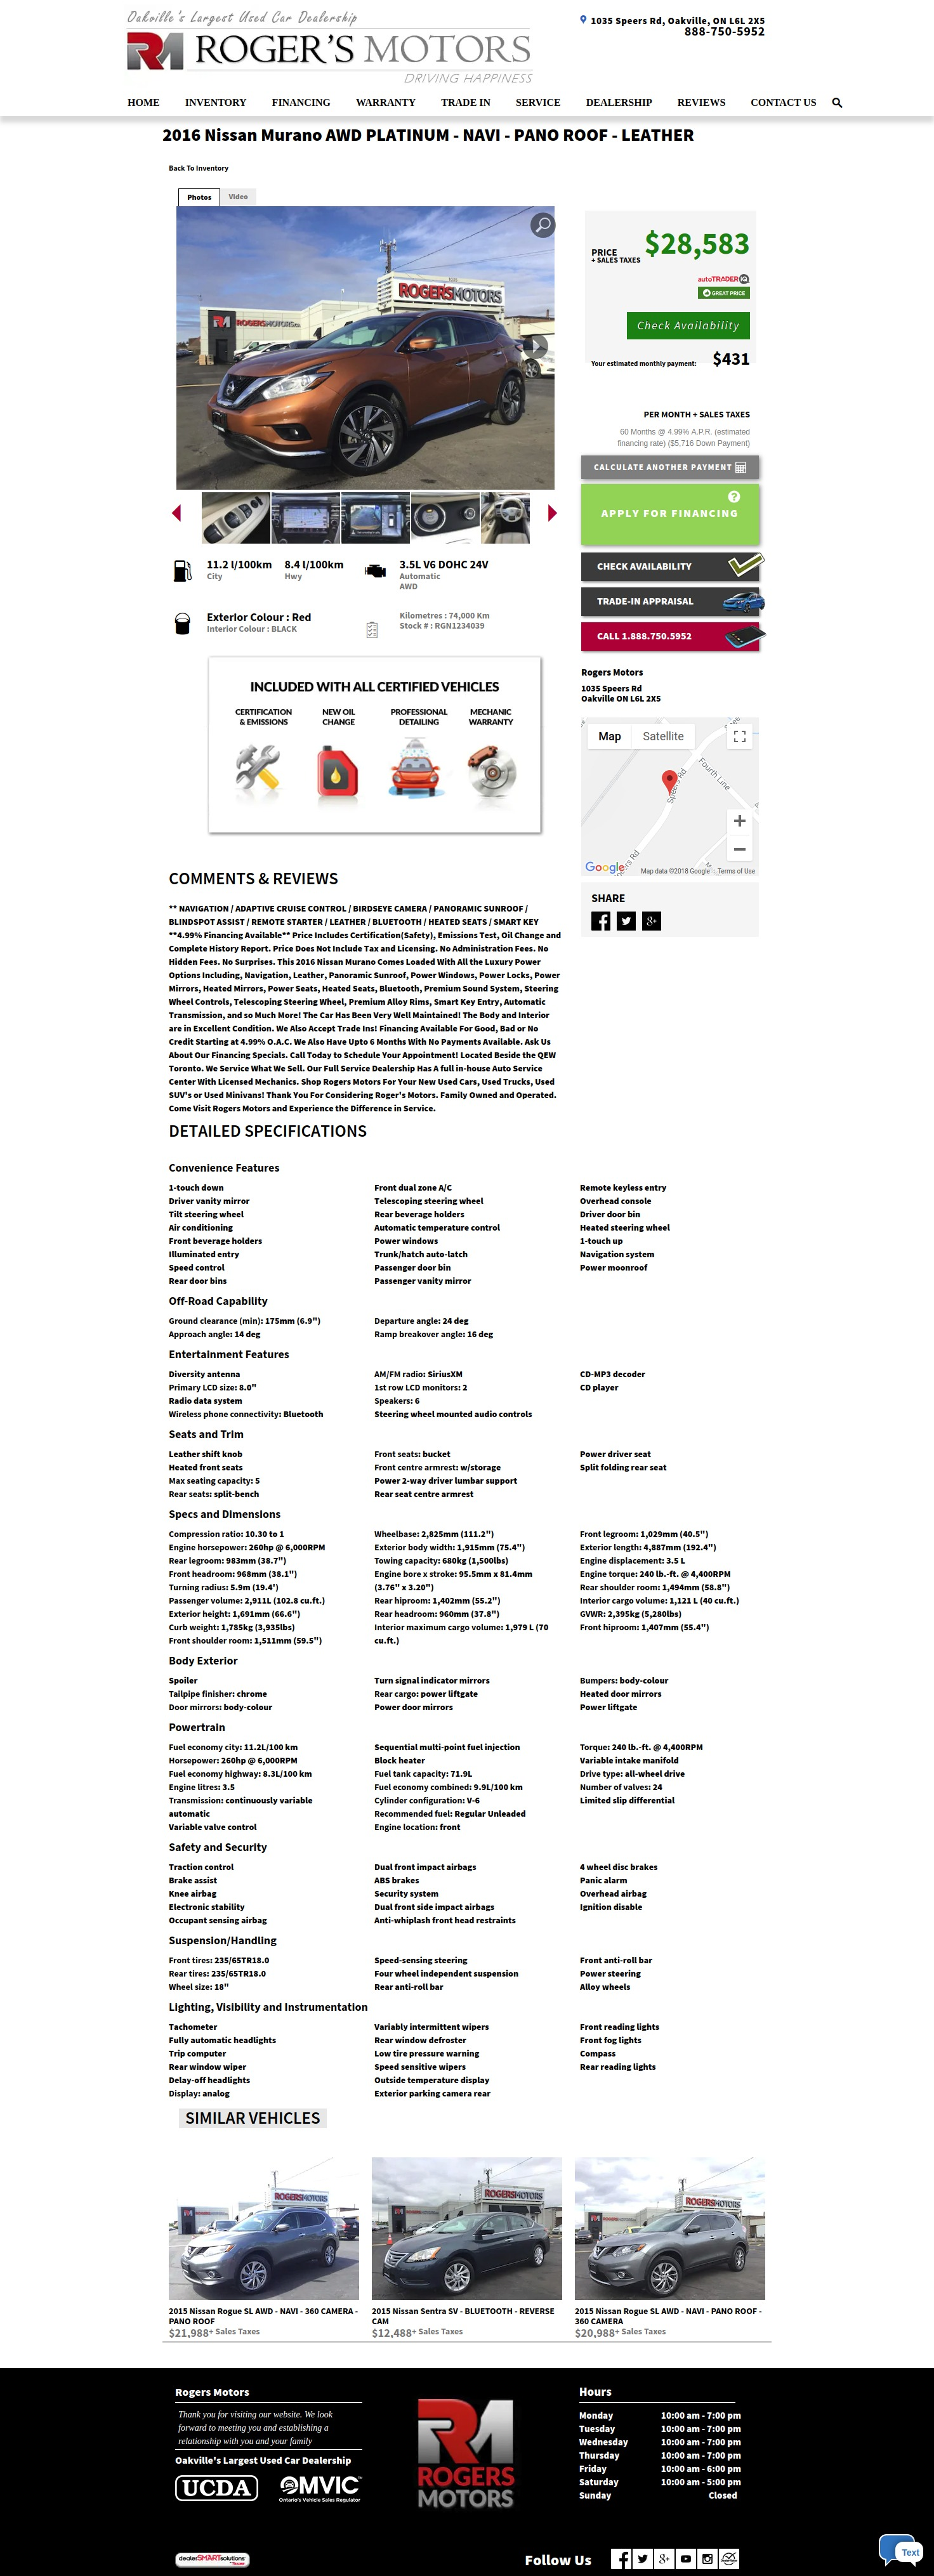car: (548, 504, 557, 524)
